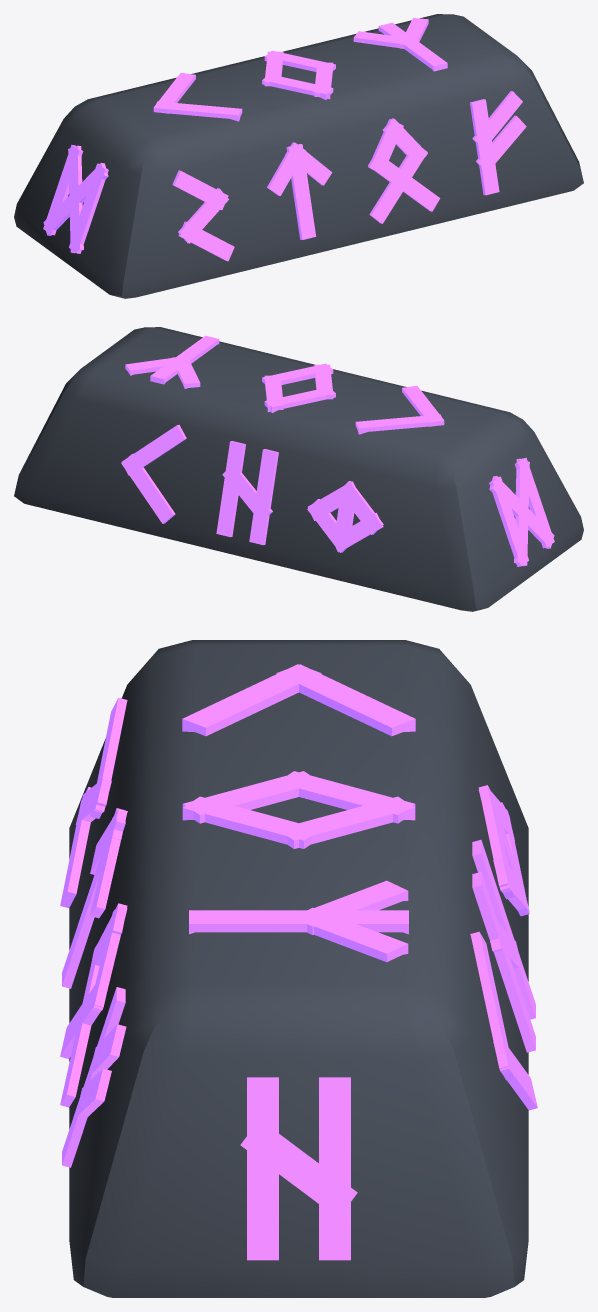
Rendered from item_runesteel_ingot.glb.
3 views of the same model, one above another, from view 1: azimuth 30°, elevation 25°; view 2: azimuth 150°, elevation 25°; view 3: azimuth 270°, elevation 25° (orthographic). The views are drawn at different scales.
Parts seen in each view (by area): view 1: RunesteelIngot; view 2: RunesteelIngot; view 3: RunesteelIngot.
Part boxes in pixels (box(x1,y1,x2,y2)): RunesteelIngot: box(14, 14, 583, 298); RunesteelIngot: box(14, 327, 583, 611); RunesteelIngot: box(60, 640, 537, 1297).
Bounding box in the file's own units: 0.2939 × 0.0805 × 0.1269.
